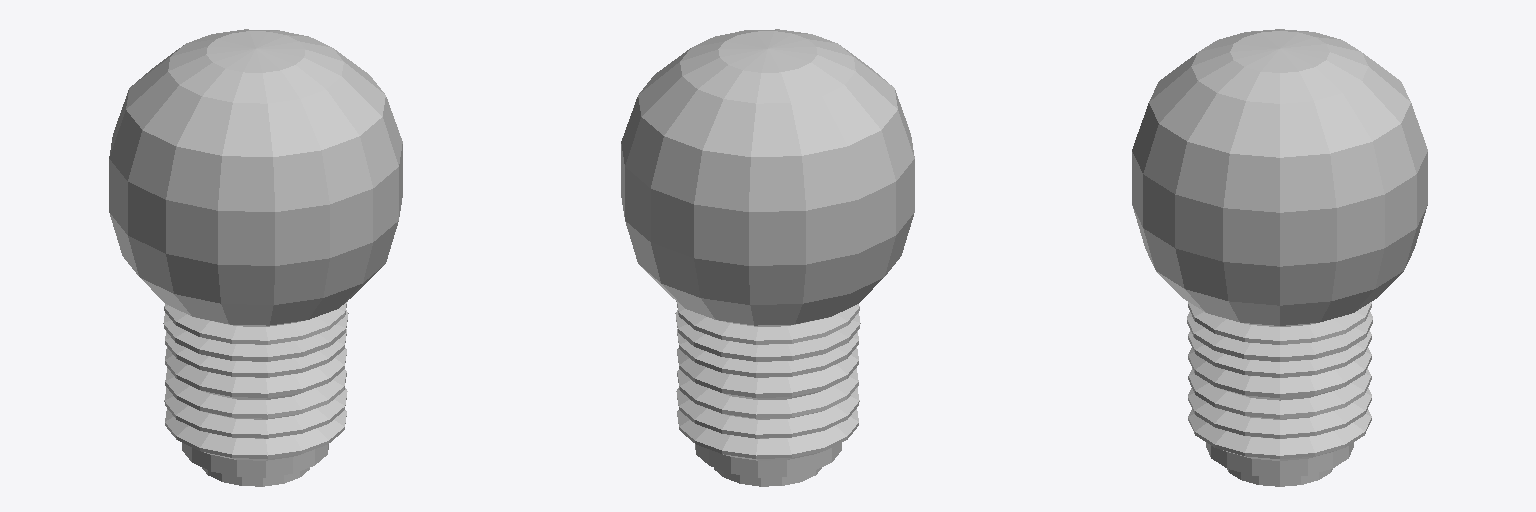
The model's file is light.obj.
The picture shows the model from 3 angles: view 1: azimuth 30°, elevation 25°; view 2: azimuth 150°, elevation 25°; view 3: azimuth 270°, elevation 25°; orthographic projection.
Visible parts, largest first — view 1: Cube; view 2: Cube; view 3: Cube.
Part boxes in pixels (left/top/right/bottom): Cube: left=109, top=29, right=402, bottom=486; Cube: left=621, top=29, right=914, bottom=486; Cube: left=1132, top=29, right=1427, bottom=486.
Bounding box in the file's own units: 1.6 × 2.47 × 1.6.